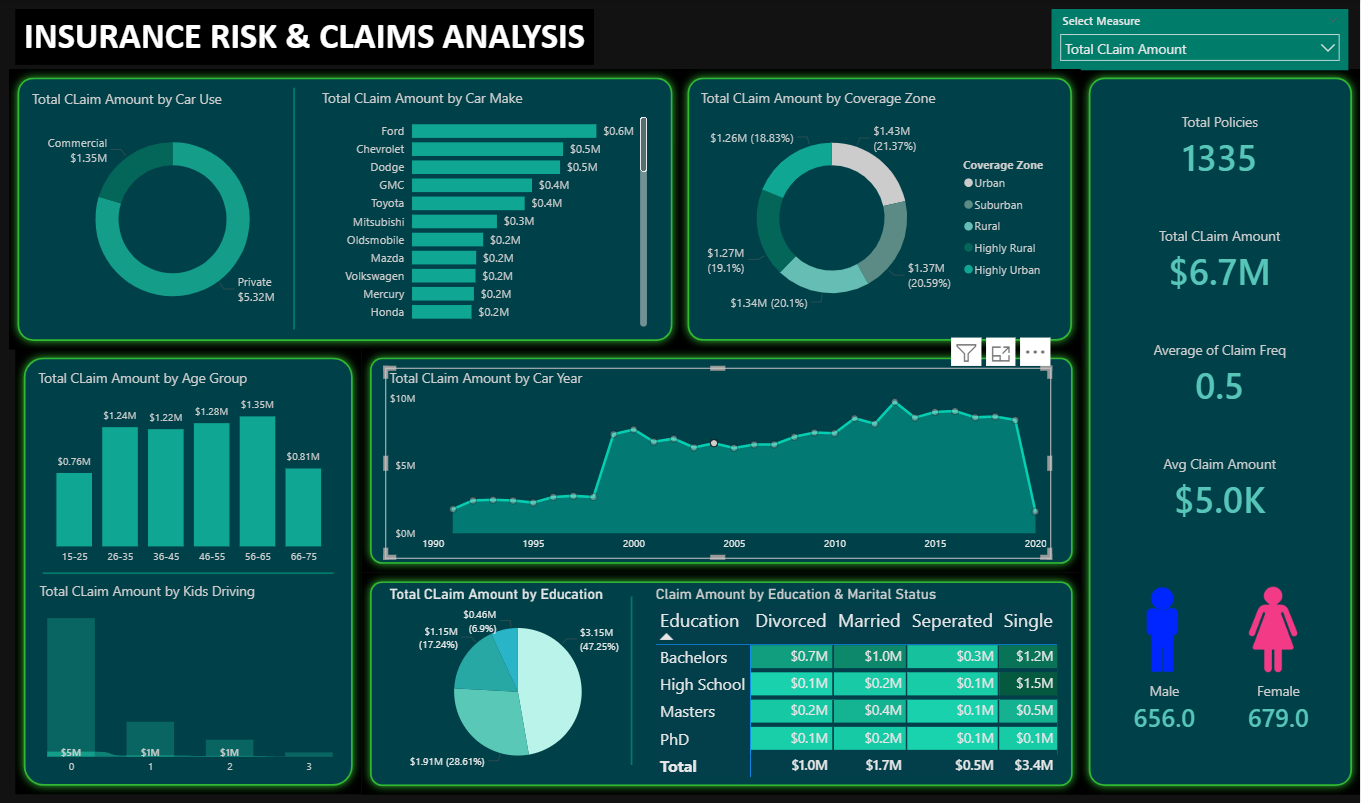

What the dashboard file says about the page in this screenshot:
{"tool":"powerbi","page":{"name":"Page 1","canvas":[1600,950],"ordinal":0},"visuals":[{"type":"textbox","box":[19.1,11.1,679.7,65.3],"z":0},{"type":"shape","box":[1271,82.3,329.3,852.5],"z":1000},{"type":"cardVisual","fields":{"Data":["insurance_data_car.Total Policies","insurance_data_car.Total CLaim Amount","Avg(insurance_data_car.Claim Freq)","insurance_data_car.Avg Claim Amount"]},"box":[1300.2,104.6,269.3,540],"z":2000},{"type":"cardVisual","fields":{"Data":["insurance_data_car.Male","insurance_data_car.Female"]},"box":[1306.7,777,259.5,109.8],"z":3000},{"type":"image","box":[1435.6,673.5,127.3,133.7],"z":4000},{"type":"image","box":[1306.7,683.1,119,116],"z":5000},{"type":"slicer","fields":{"Values":["Select Measure.Select Measure"]},"box":[1236.9,11.1,348.6,71.6],"z":6000},{"type":"shape","box":[11.1,82.8,789.5,329.5],"z":7000},{"type":"donutChart","fields":{"Y":["insurance_data_car.Total CLaim Amount"],"Category":["insurance_data_car.Car Use"]},"box":[33.4,105.1,340.7,284.9],"z":8000},{"type":"clusteredBarChart","fields":{"Y":["insurance_data_car.Total CLaim Amount"],"Category":["insurance_data_car.Car Make"]},"box":[374,104,392,286],"z":9000},{"type":"shape","box":[799.3,82.3,471.7,329.3],"z":10000},{"type":"donutChart","fields":{"Y":["insurance_data_car.Total CLaim Amount"],"Category":["insurance_data_car.Coverage Zone"]},"box":[819.9,104.6,430.5,284.7],"z":11000},{"type":"shape","box":[18.9,411.7,406.5,523.2],"z":12000},{"type":"columnChart","fields":{"Category":["insurance_data_car.Age Group"],"Y":["insurance_data_car.Total CLaim Amount"]},"box":[41.2,434,365.4,240.1],"z":13000},{"type":"ribbonChart","fields":{"Y":["insurance_data_car.Total CLaim Amount"],"Category":["insurance_data_car.Kids Driving"]},"box":[42,684,364,236],"z":14000},{"type":"shape","box":[425.4,411.7,845.6,262.4],"z":15000},{"type":"areaChart","fields":{"Y":["insurance_data_car.Total CLaim Amount"],"Category":["insurance_data_car.Car Year"]},"box":[454.5,434,782.2,224.7],"z":16000},{"type":"shape","box":[425.4,674.1,845.6,260.7],"z":17000},{"type":"pieChart","fields":{"Y":["insurance_data_car.Total CLaim Amount"],"Category":["insurance_data_car.Education"]},"box":[454.5,689.5,312.2,231.6],"z":18000},{"type":"pivotTable","title":"Claim Amount by Education & Marital Status","fields":{"Values":["insurance_data_car.Total CLaim Amount"],"Rows":["insurance_data_car.Education"],"Columns":["insurance_data_car.Marital Status"]},"box":[766.7,689.5,483.7,231.6],"z":19000},{"type":"shape","box":[318,104,56,284],"z":20000},{"type":"shape","box":[716,702,56,198],"z":21000},{"type":"shape","box":[51.7,658.3,341.7,33.3],"z":21001}]}

Visuals, with their boxes in screenshot pixels (x1, y1, x2, y2), scaled from the page's 1600x950 canvas onto the 1361x803 screenshot:
textbox: box(16, 9, 594, 65)
shape: box(1081, 70, 1360, 790)
cardVisual - insurance_data_car.Total Policies x insurance_data_car.Total CLaim Amount: box(1106, 88, 1335, 545)
cardVisual - insurance_data_car.Male x insurance_data_car.Female: box(1112, 657, 1332, 750)
image: box(1221, 569, 1329, 682)
image: box(1112, 577, 1213, 675)
slicer - Select Measure.Select Measure: box(1052, 9, 1349, 70)
shape: box(9, 70, 681, 349)
donutChart - insurance_data_car.Total CLaim Amount x insurance_data_car.Car Use: box(28, 89, 318, 330)
clusteredBarChart - insurance_data_car.Total CLaim Amount x insurance_data_car.Car Make: box(318, 88, 652, 330)
shape: box(680, 70, 1081, 348)
donutChart - insurance_data_car.Total CLaim Amount x insurance_data_car.Coverage Zone: box(697, 88, 1064, 329)
shape: box(16, 348, 362, 790)
columnChart - insurance_data_car.Age Group x insurance_data_car.Total CLaim Amount: box(35, 367, 346, 570)
ribbonChart - insurance_data_car.Total CLaim Amount x insurance_data_car.Kids Driving: box(36, 578, 345, 778)
shape: box(362, 348, 1081, 570)
areaChart - insurance_data_car.Total CLaim Amount x insurance_data_car.Car Year: box(387, 367, 1052, 557)
shape: box(362, 570, 1081, 790)
pieChart - insurance_data_car.Total CLaim Amount x insurance_data_car.Education: box(387, 583, 652, 779)
"Claim Amount by Education & Marital Status" pivotTable: box(652, 583, 1064, 779)
shape: box(270, 88, 318, 328)
shape: box(609, 593, 657, 761)
shape: box(44, 556, 335, 585)
